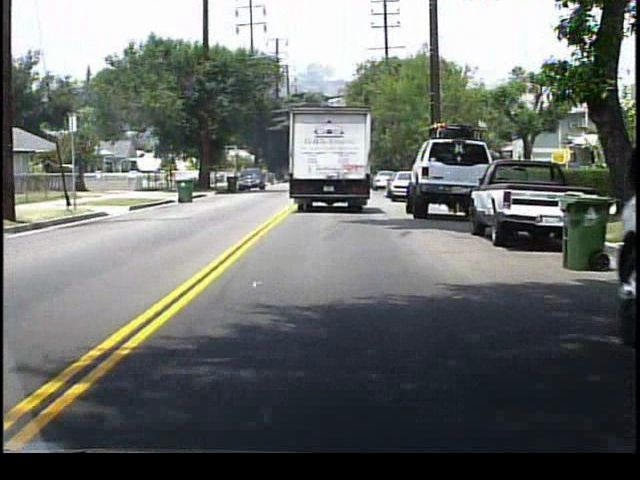person: (171, 166, 175, 192)
